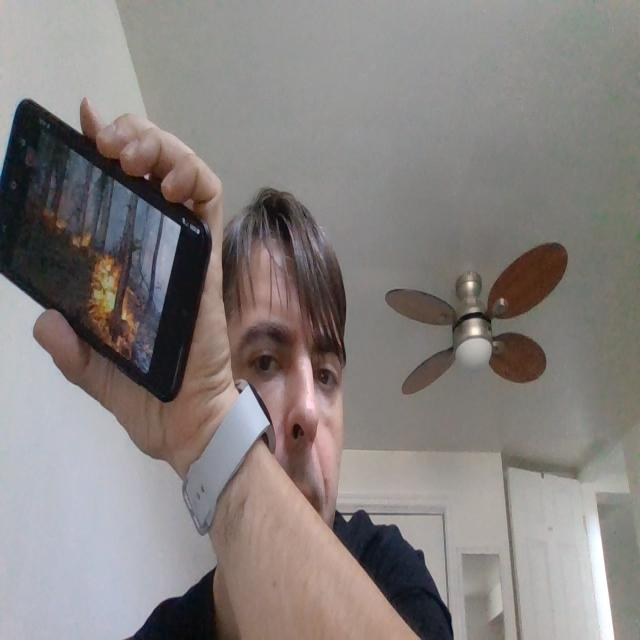Fire: (85, 248, 146, 364), (36, 194, 70, 240), (70, 223, 93, 263)
